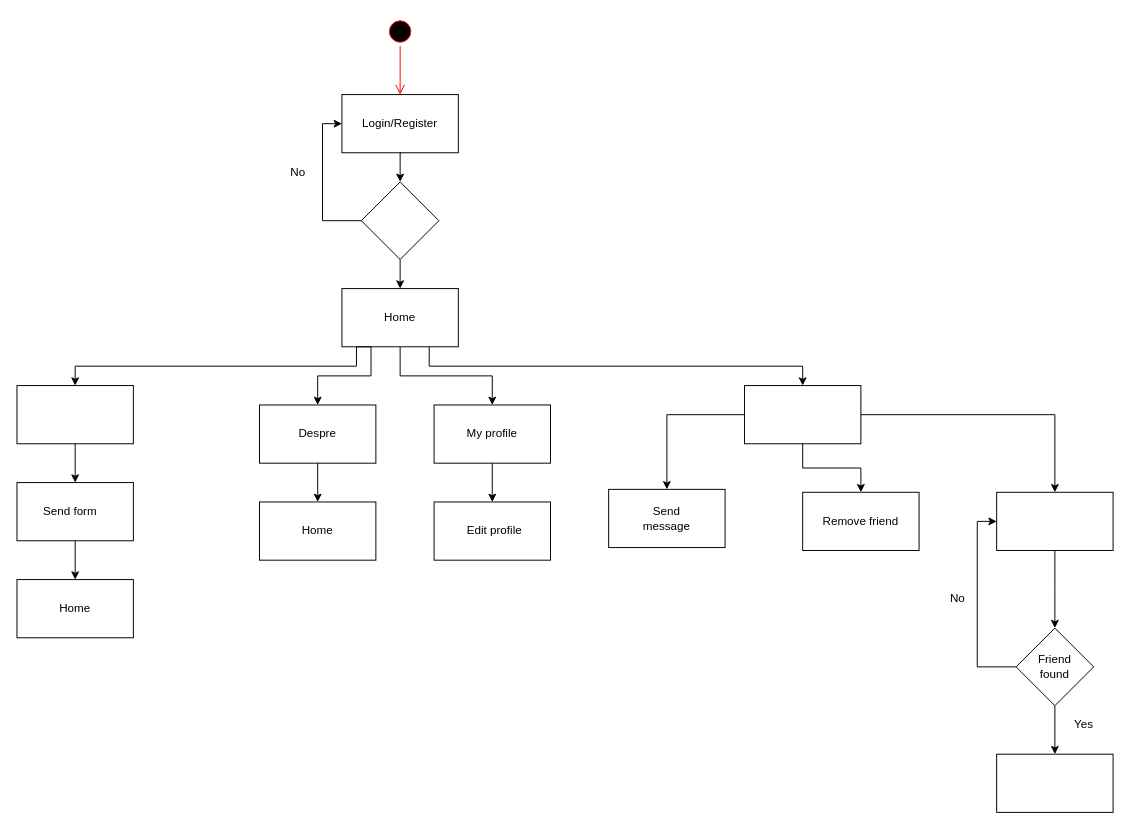
This 1130x829 diagram has some shape labels left out. Each missing label, with the centre of its shape:
"Add friend" goes at point (1054, 782).
"Contact" goes at point (74, 414).
"Friends sidebar" goes at point (802, 414).
"Search friend" goes at point (1054, 520).
"Valid input" goes at point (399, 220).
